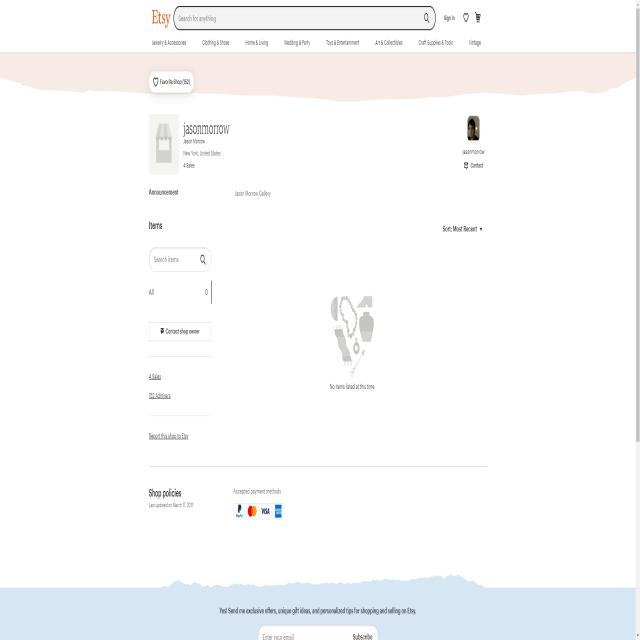menu-bar: (441, 6, 486, 26)
search: (148, 244, 211, 274)
side-panel: (147, 221, 214, 509)
tab-bar: (151, 36, 483, 50)
